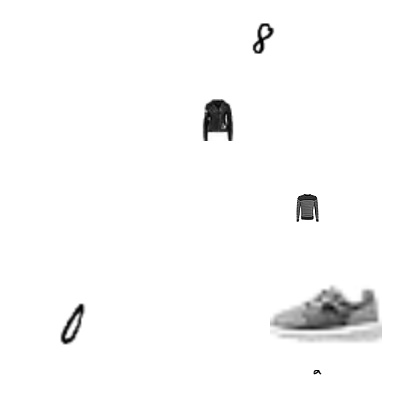0: (43, 296, 99, 352)
2: (310, 363, 324, 377)
8: (241, 16, 283, 58)
Coat: (197, 99, 239, 141)
Pullover: (293, 194, 321, 222)
Sneaker: (270, 258, 382, 370)
